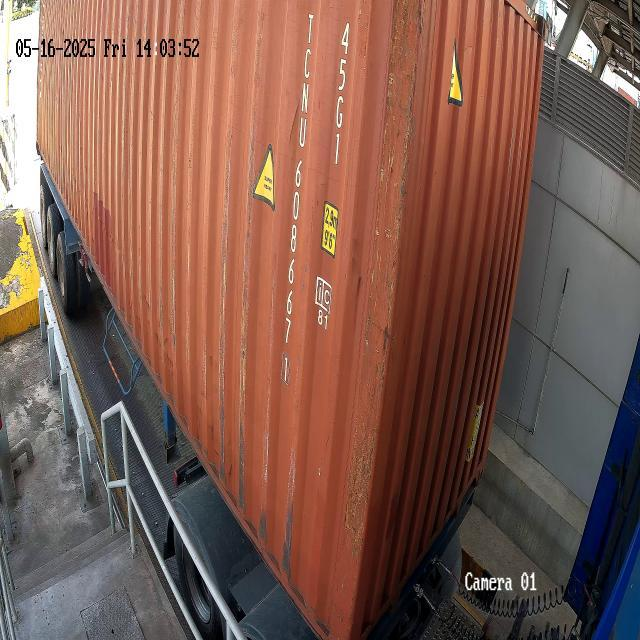ISO: (332, 12, 353, 170)
container_number: (275, 0, 318, 393)
